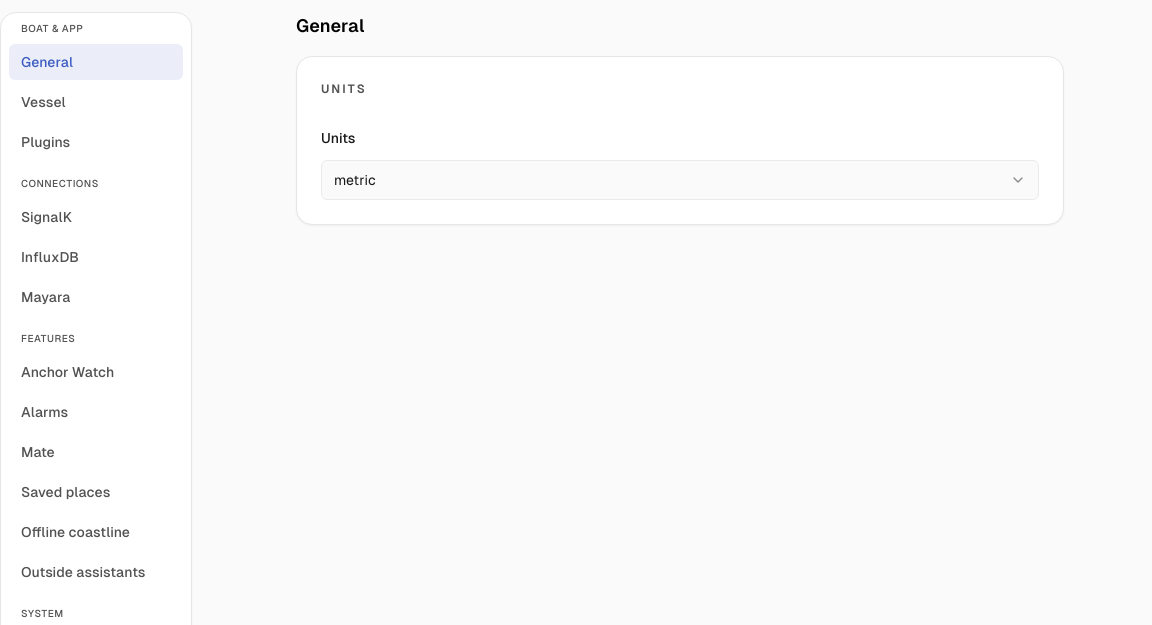
Test: Settings -> Vessel and the Save bar › has no Save Vessel Settings or Save particulars button, and no engines or power blocks
Click the button "Vessel" at (96, 102), box [9,84,183,120]
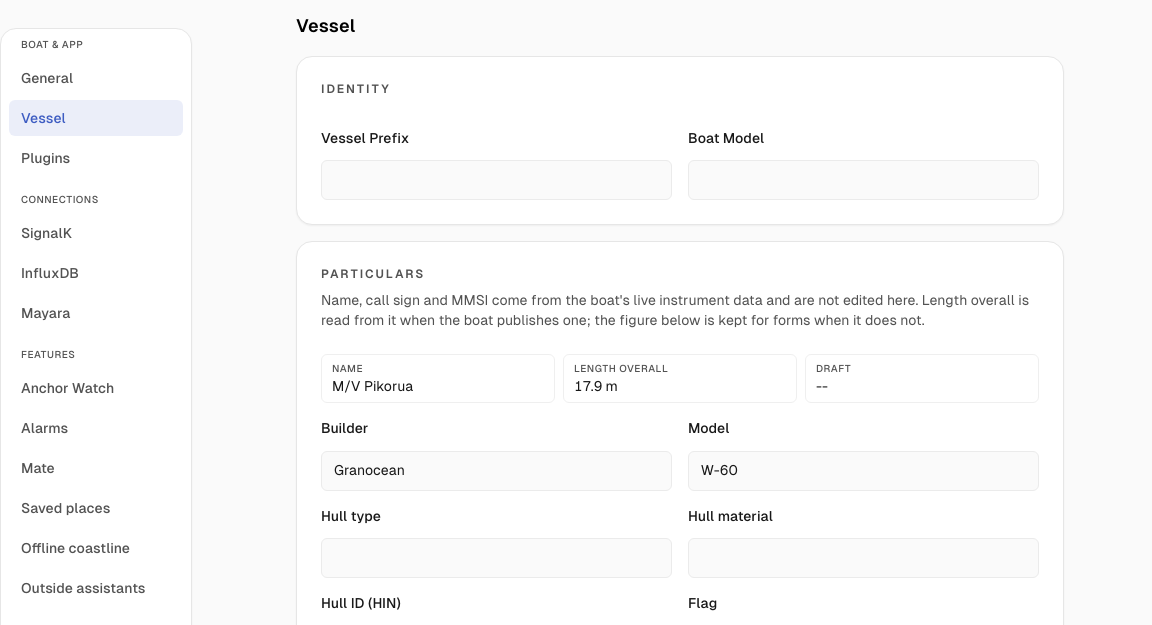
Now the field labelled "Builder" is shown, box [321,450,672,490]
